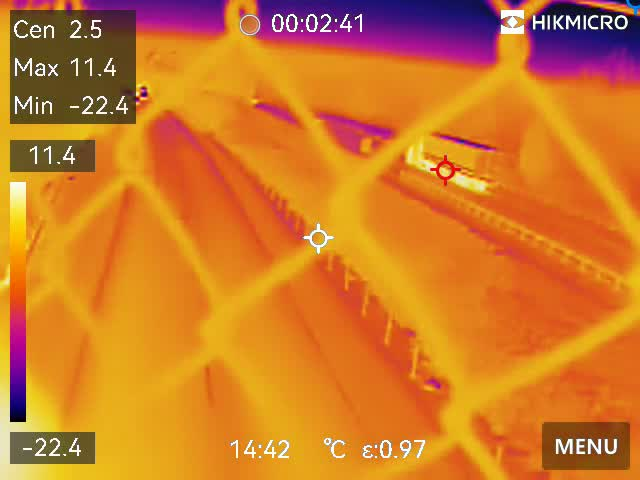heavyTruck: (399, 123, 502, 195)
